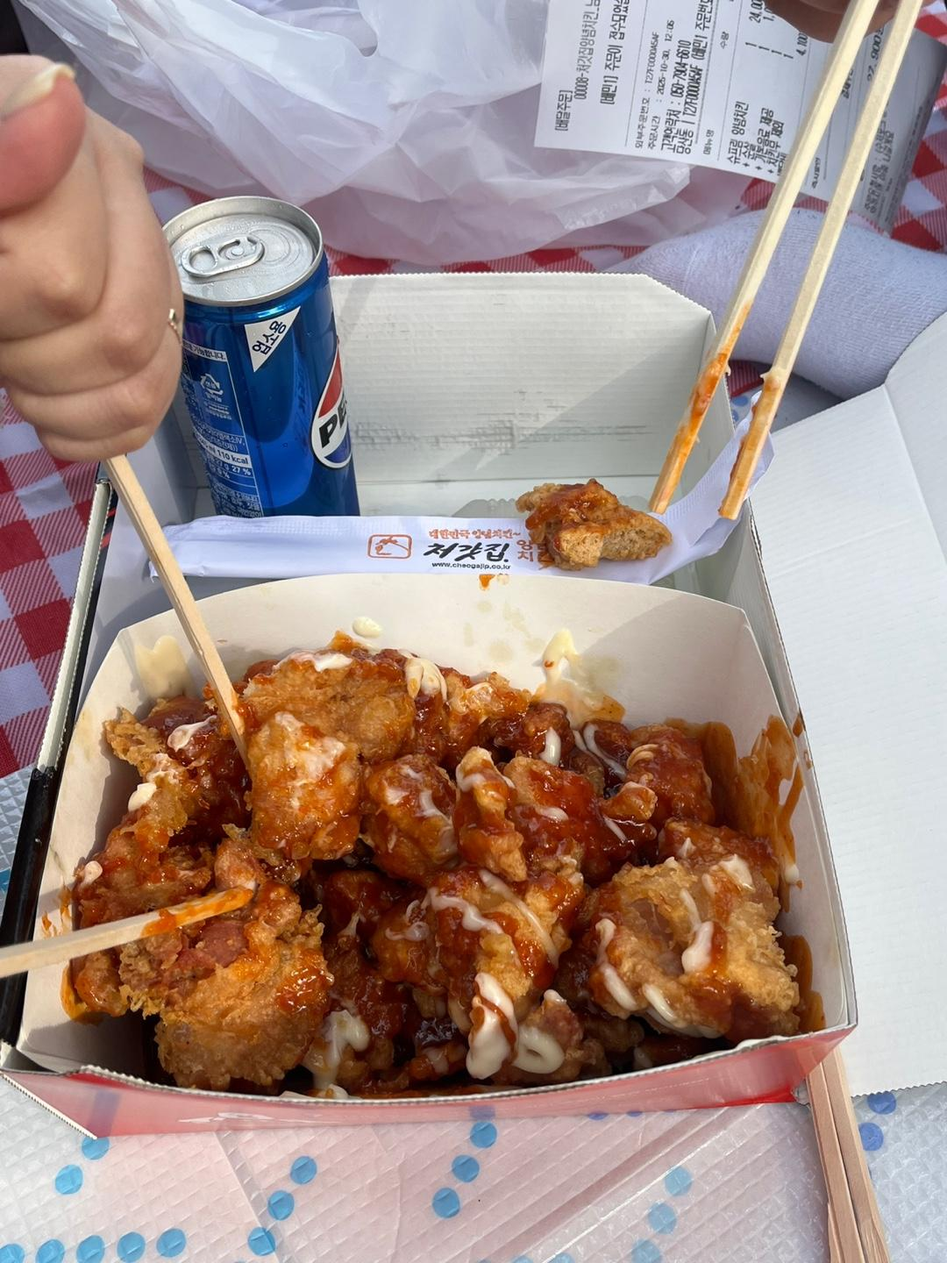Bottle: (165, 196, 359, 517)
Lunch Box: (0, 273, 946, 1135)
